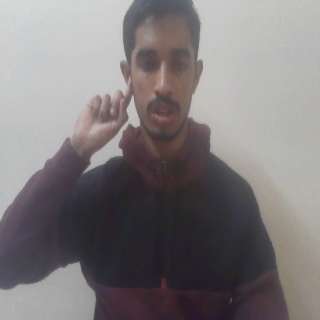Deaf: (70, 76, 133, 157)
Face: (118, 1, 206, 144)
